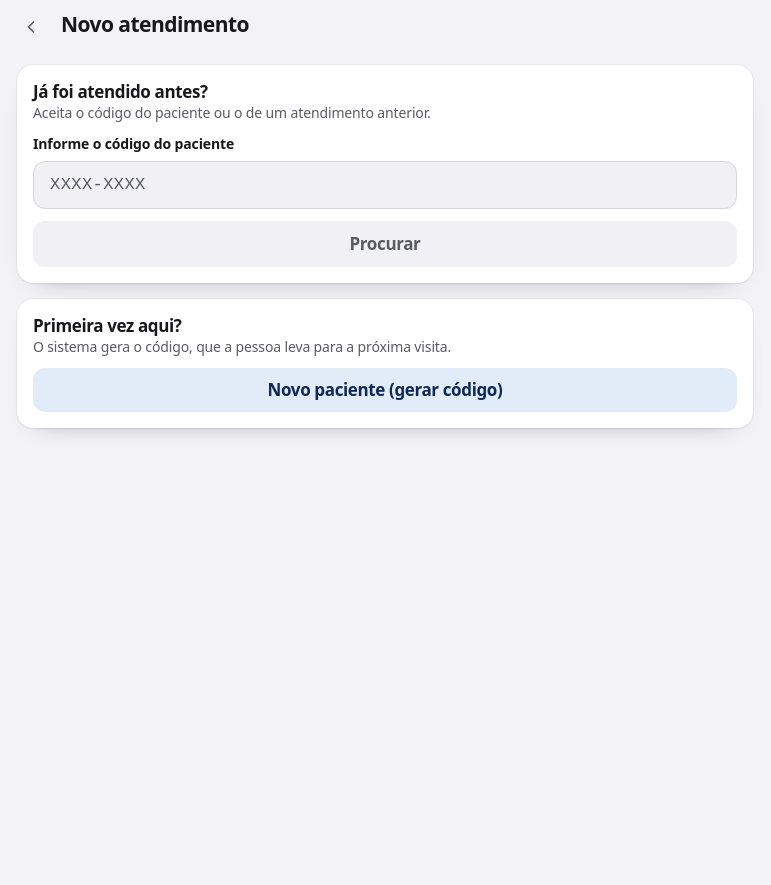
Test: Novo atendimento › mostra o código antes de pedir qualquer dado
Click the button "Novo paciente (gerar código)": (385, 390) [33,368,737,412]
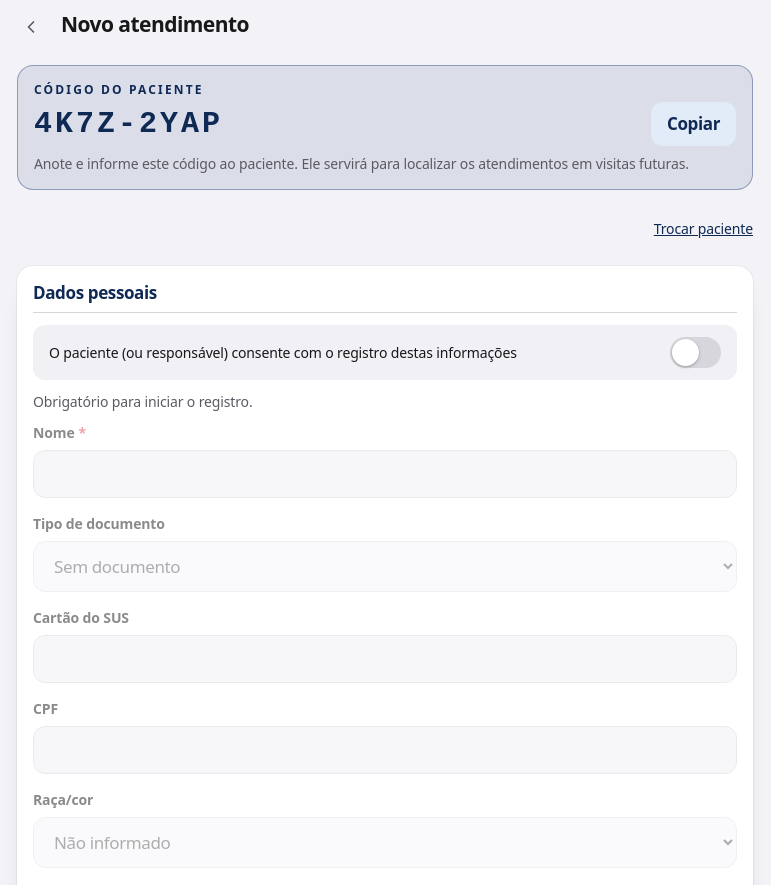
Check: the field labelled "Nome*" is empty, box [33,450,737,498]
Check: the text "4K7Z-2YAP" is shown, box [34,106,223,142]
